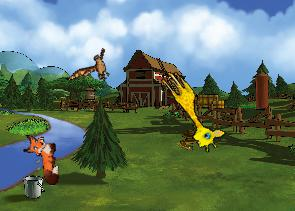eagle: (65, 39, 120, 98)
fox: (22, 132, 60, 186)
giraffe: (150, 66, 229, 156)
